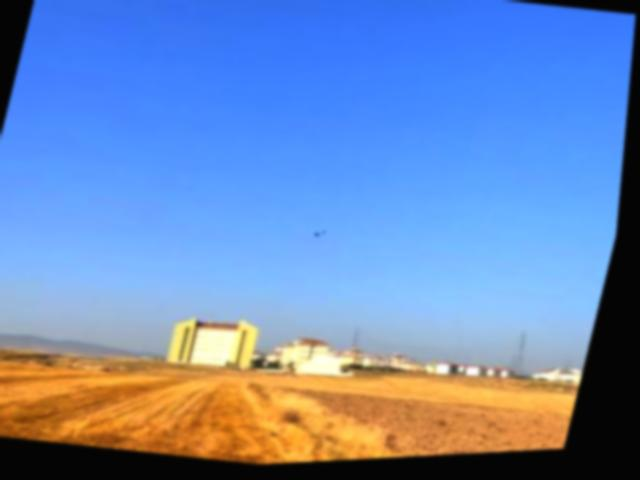uav: (313, 229, 332, 246)
